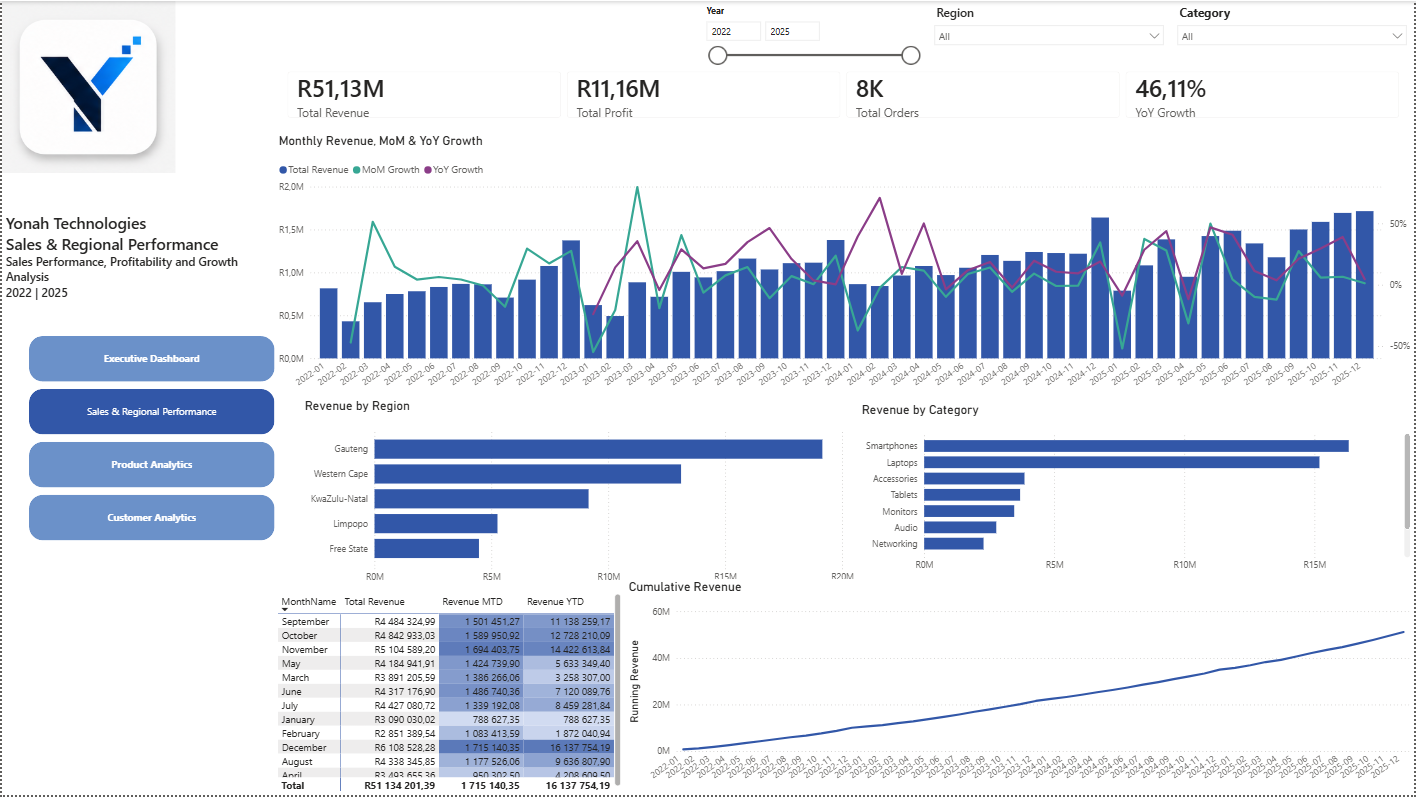

Layout of this report page (visuals, bound fields, positions):
{"tool":"powerbi","page":{"name":"Sales & Regional Performance","canvas":[1920,1080],"ordinal":2},"visuals":[{"type":"image","box":[0,0,236.7,234],"z":0},{"type":"textbox","box":[0,265.2,329.2,149.6],"z":1000},{"type":"cardVisual","fields":{"Data":["_Yonah Measures.Total Revenue","_Yonah Measures.Total Profit","_Yonah Measures.Total Orders","_Yonah Measures.YoY Growth"]},"box":[371.3,78.9,1547.9,97.9],"z":2000},{"type":"lineClusteredColumnComboChart","title":"Monthly Revenue, MoM & YoY Growth","fields":{"Category":["dim Date.YearMonth"],"Y":["_Yonah Measures.Total Revenue"],"Y2":["_Yonah Measures.MoM Growth","_Yonah Measures.YoY Growth"]},"box":[371.3,176.8,1549.3,363.2],"z":3000},{"type":"clusteredBarChart","title":"Revenue by Region","fields":{"Category":["dim Customer.Region"],"Y":["_Yonah Measures.Total Revenue"]},"box":[406.7,540,757.6,246.2],"z":4000},{"type":"clusteredBarChart","title":"Revenue by Category","fields":{"Category":["dim Product.Category"],"Y":["_Yonah Measures.Total Revenue"]},"box":[1163.9,545.6,756.1,240.2],"z":5000},{"type":"lineChart","title":"Cumulative Revenue","fields":{"Category":["dim Date.YearMonth"],"Y":["_Yonah Measures.Running Revenue"]},"box":[847.7,786.4,1072.3,293.3],"z":6000},{"type":"slicer","fields":{"Values":["dim Date.Year"]},"box":[945.4,0,312.2,90.5],"z":7000},{"type":"slicer","fields":{"Values":["dim Customer.Region"]},"box":[1257.6,0,331.9,78.9],"z":8000},{"type":"slicer","fields":{"Values":["dim Product.Category"]},"box":[1588.8,0,331.9,87.1],"z":9000},{"type":"pivotTable","fields":{"Rows":["dim Date.Year","dim Date.MonthName"],"Values":["_Yonah Measures.Total Revenue","_Yonah Measures.Revenue MTD","_Yonah Measures.Revenue YTD"]},"box":[370.6,801,477.1,278.7],"z":10000},{"type":"pageNavigator","box":[36.5,455.2,334.1,280.1],"z":11000}]}

Visuals, with their boxes in screenshot pixels (x1, y1, x2, y2), scaled from the page's 1920x1080 canvas onto the 1416x799 screenshot:
image: (x1=0, y1=0, x2=175, y2=173)
textbox: (x1=0, y1=196, x2=243, y2=307)
cardVisual - _Yonah Measures.Total Revenue x _Yonah Measures.Total Profit: (x1=274, y1=58, x2=1415, y2=131)
"Monthly Revenue, MoM & YoY Growth" lineClusteredColumnComboChart: (x1=274, y1=131, x2=1415, y2=400)
"Revenue by Region" clusteredBarChart: (x1=300, y1=400, x2=859, y2=582)
"Revenue by Category" clusteredBarChart: (x1=858, y1=404, x2=1415, y2=581)
"Cumulative Revenue" lineChart: (x1=625, y1=582, x2=1415, y2=798)
slicer - dim Date.Year: (x1=697, y1=0, x2=927, y2=67)
slicer - dim Customer.Region: (x1=927, y1=0, x2=1172, y2=58)
slicer - dim Product.Category: (x1=1172, y1=0, x2=1415, y2=64)
pivotTable - dim Date.Year x dim Date.MonthName: (x1=273, y1=593, x2=625, y2=798)
pageNavigator: (x1=27, y1=337, x2=273, y2=544)
